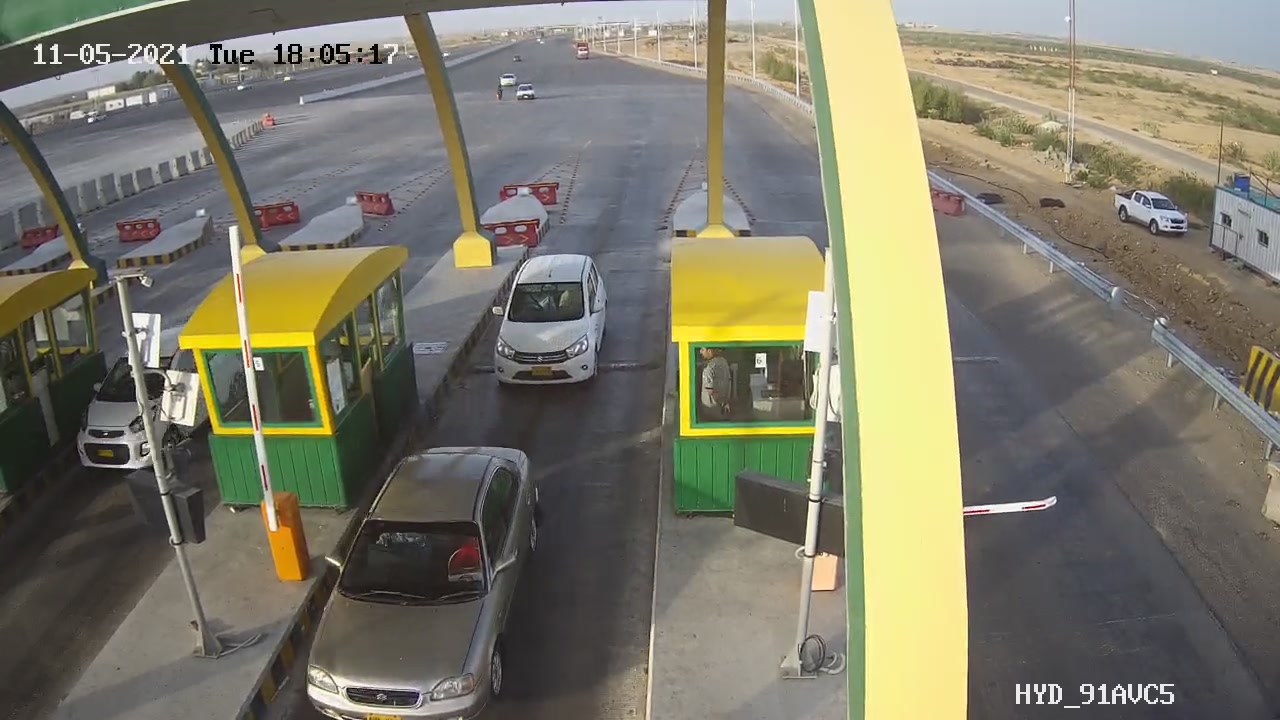F1: (486, 242, 625, 409)
